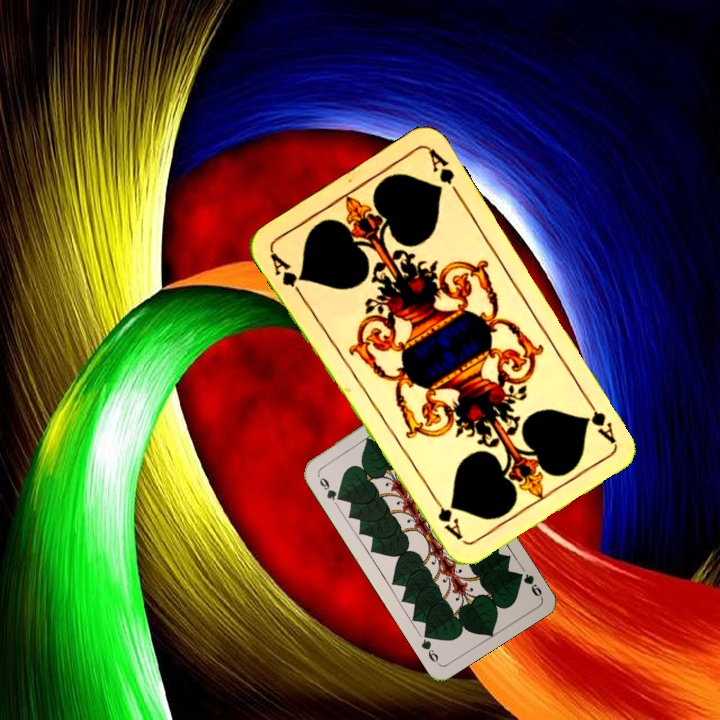G9: (512, 568, 544, 600), (314, 471, 344, 503)
GA: (265, 248, 306, 301), (580, 392, 618, 446)
